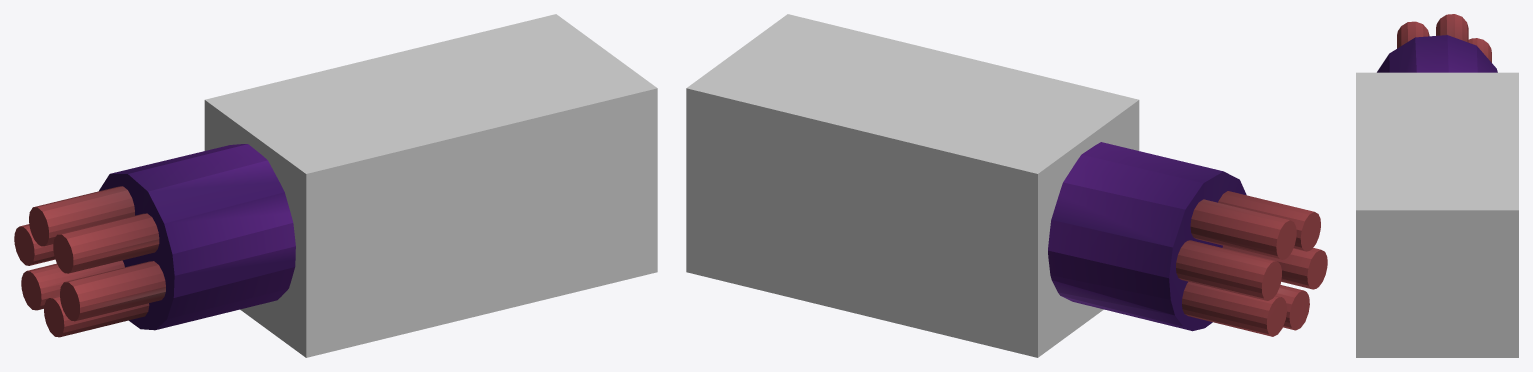
File: gatling.fbx
3 views of the same model, side by side, from view 1: azimuth 30°, elevation 25°; view 2: azimuth 150°, elevation 25°; view 3: azimuth 270°, elevation 25° (orthographic). The views are drawn at different scales.
Parts seen in each view (by area): view 1: Cube, 円柱; view 2: Cube, 円柱; view 3: Cube, 円柱.
Boxes of the visible parts, left/top/right/bottom form: Cube: left=204, top=14, right=657, bottom=357; 円柱: left=14, top=144, right=295, bottom=337; Cube: left=686, top=14, right=1139, bottom=357; 円柱: left=1048, top=142, right=1327, bottom=336; Cube: left=1356, top=72, right=1518, bottom=357; 円柱: left=1377, top=14, right=1497, bottom=72.
Bounding box in the file's own units: 636 × 200 × 200.
